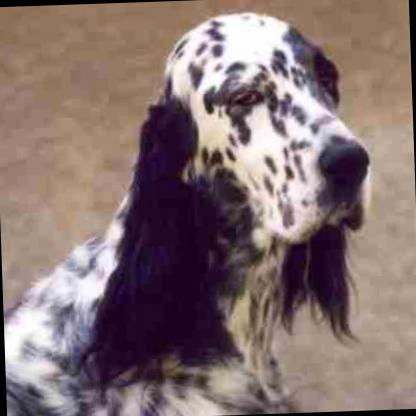English_setter: (0, 1, 384, 416)
